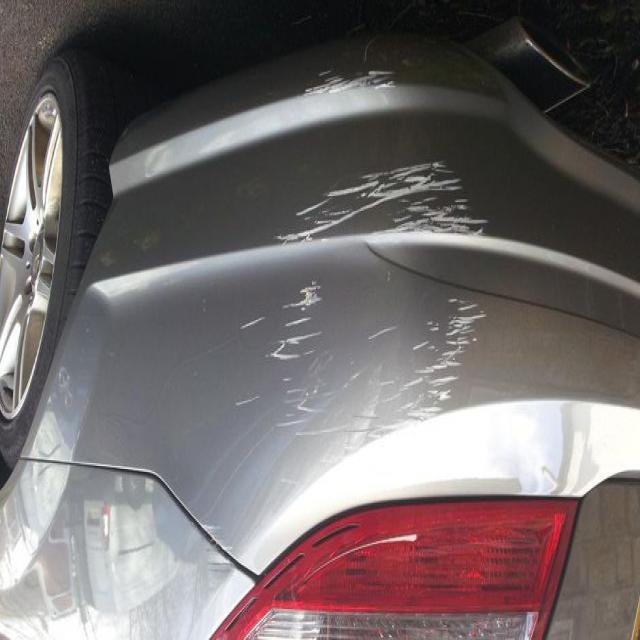scratch: (229, 290, 485, 491), (265, 156, 489, 247), (289, 64, 404, 100), (276, 271, 330, 332), (235, 308, 270, 337)
